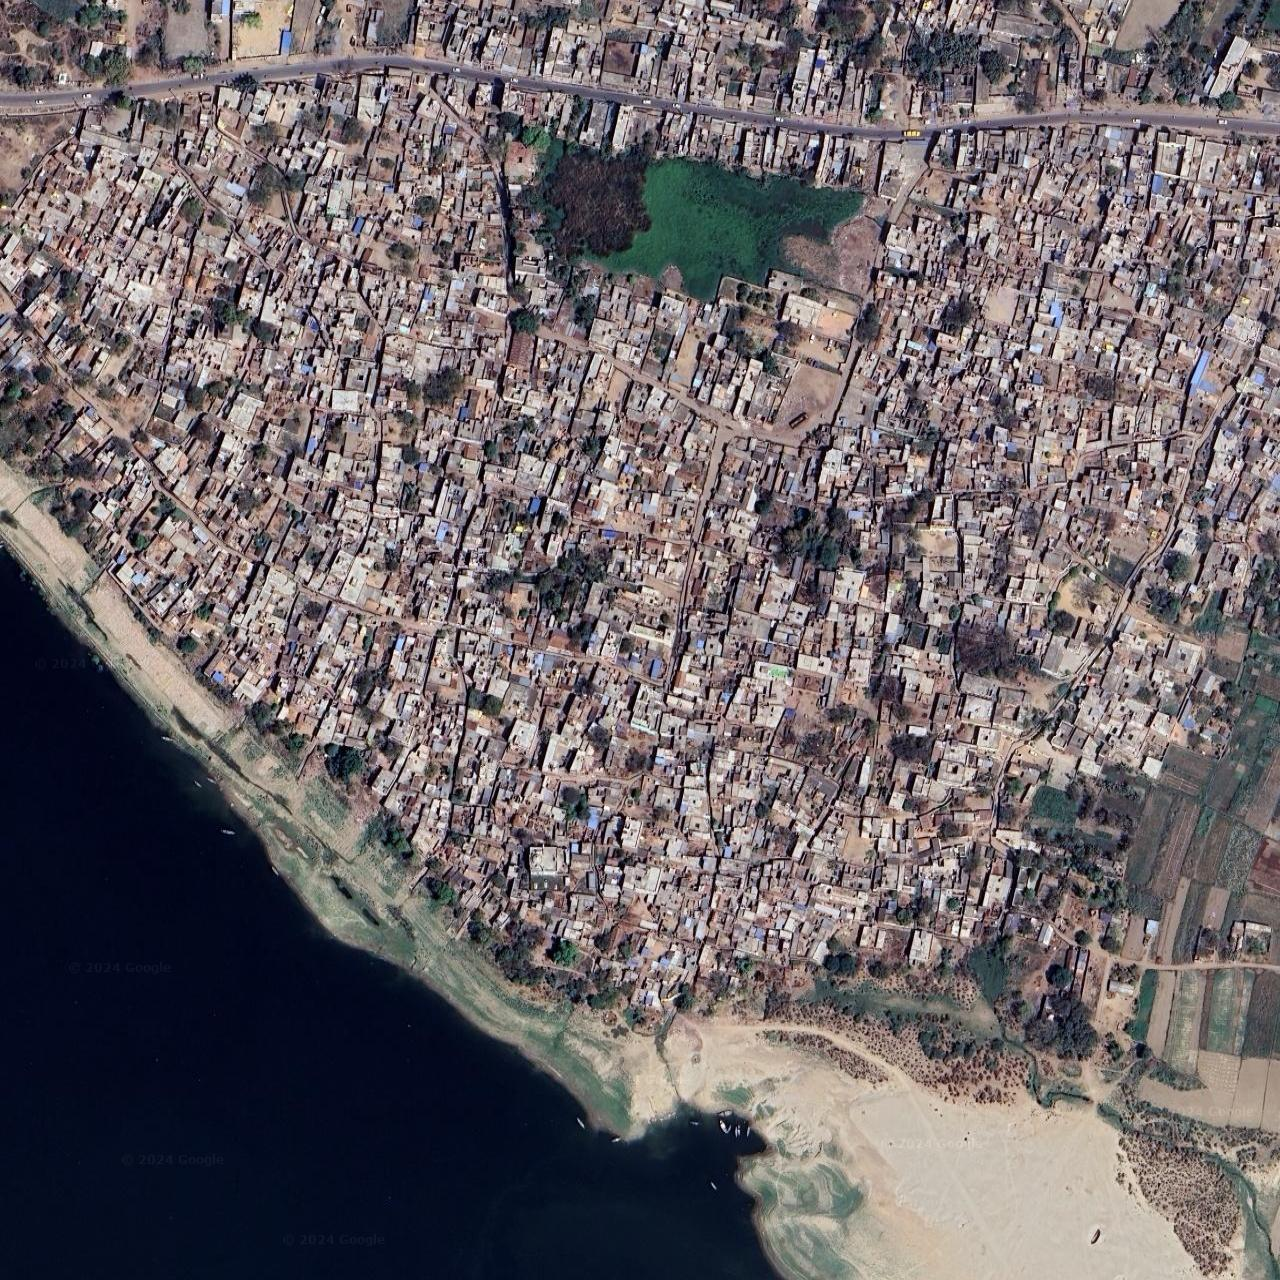greenery: (179, 547, 1258, 1280), (520, 139, 863, 298), (756, 477, 953, 724), (478, 511, 642, 649), (0, 0, 250, 89), (1103, 5, 1280, 125), (948, 604, 1036, 672), (420, 368, 465, 407)
house: (0, 74, 1272, 968), (509, 87, 917, 192), (413, 0, 768, 97)
water: (68, 960, 172, 975)
